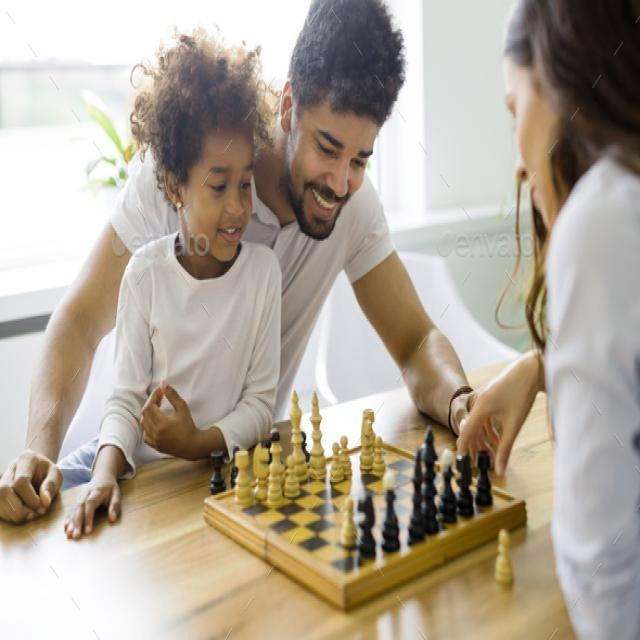chess-table-corners: (340, 567, 351, 579)
